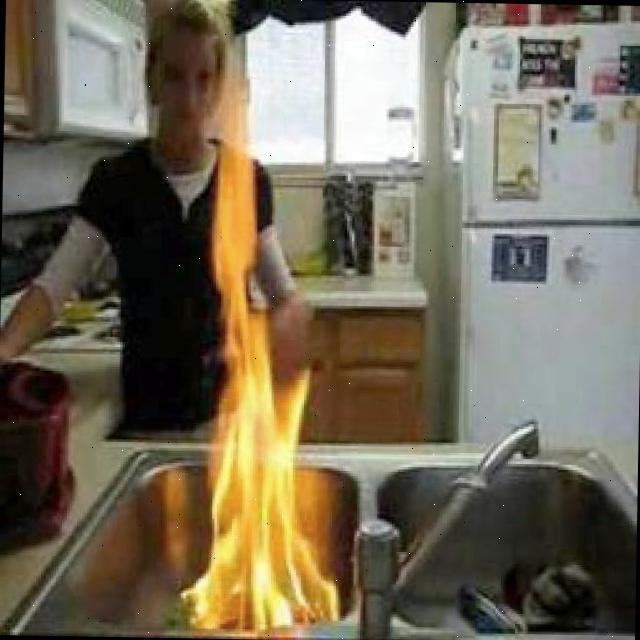fire: (196, 105, 326, 631)
